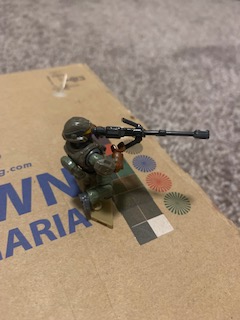soldier: (62, 113, 216, 218)
